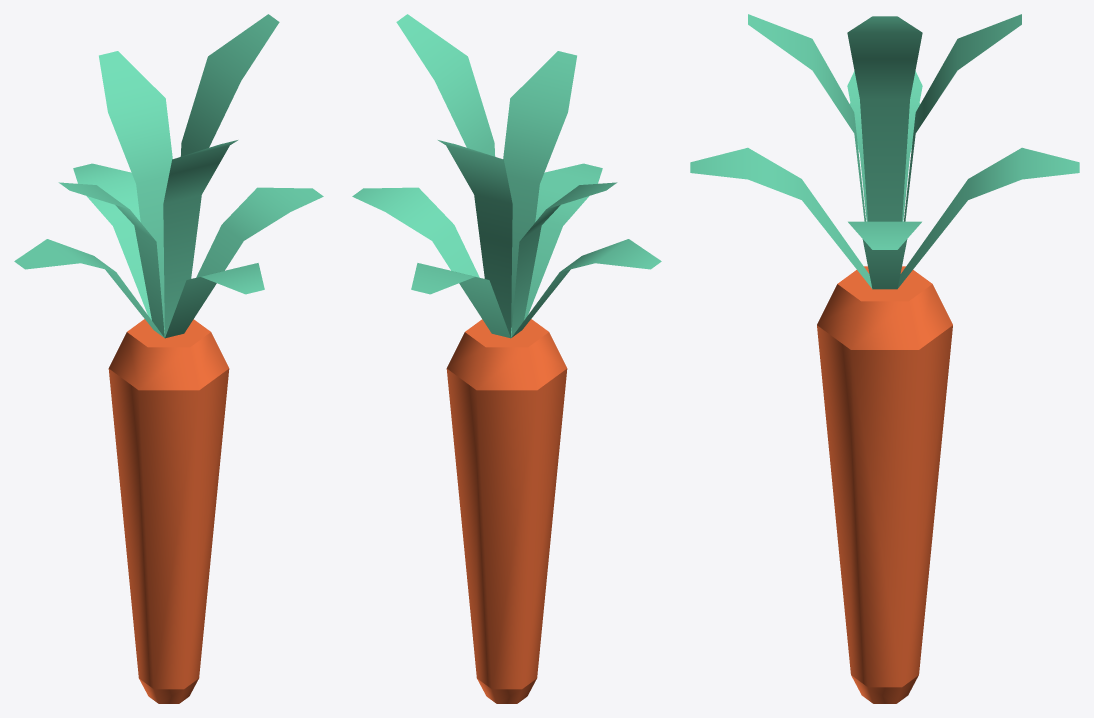
File: carrot.glb
The picture shows the model from 3 angles, left to right: view 1: azimuth 30°, elevation 25°; view 2: azimuth 150°, elevation 25°; view 3: azimuth 270°, elevation 25°; orthographic projection. The views are drawn at different scales.
Parts seen in each view (by area): view 1: carrot; view 2: carrot; view 3: carrot.
Boxes of the visible parts, box(x1,y1,x2,y2) form: carrot: box(14, 14, 323, 703); carrot: box(352, 14, 661, 703); carrot: box(690, 14, 1079, 703).
Size of the model in its own units: 0.3431 by 0.7163 by 0.3431.
